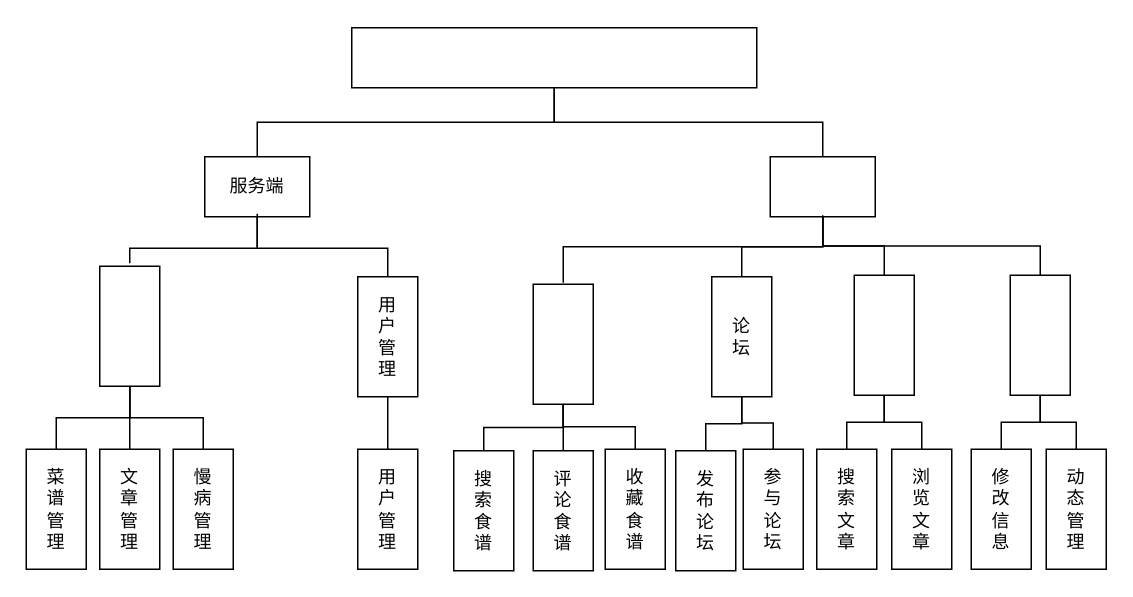
Image size: 1133x597. Some labels were removed from this diagram. The shapes that lost their labels are listed below. From the top down, each one's box as (x1, y1, x2, y2) in pixels, then its label:
(350, 26, 757, 88): 基于安卓系统的慢病的健康食谱推荐
(769, 155, 875, 217): 客户端
(98, 265, 160, 386): 数 据 管 理
(532, 283, 593, 404): 食 谱
(853, 274, 914, 395): 文 章
(1009, 274, 1070, 395): 我 的
